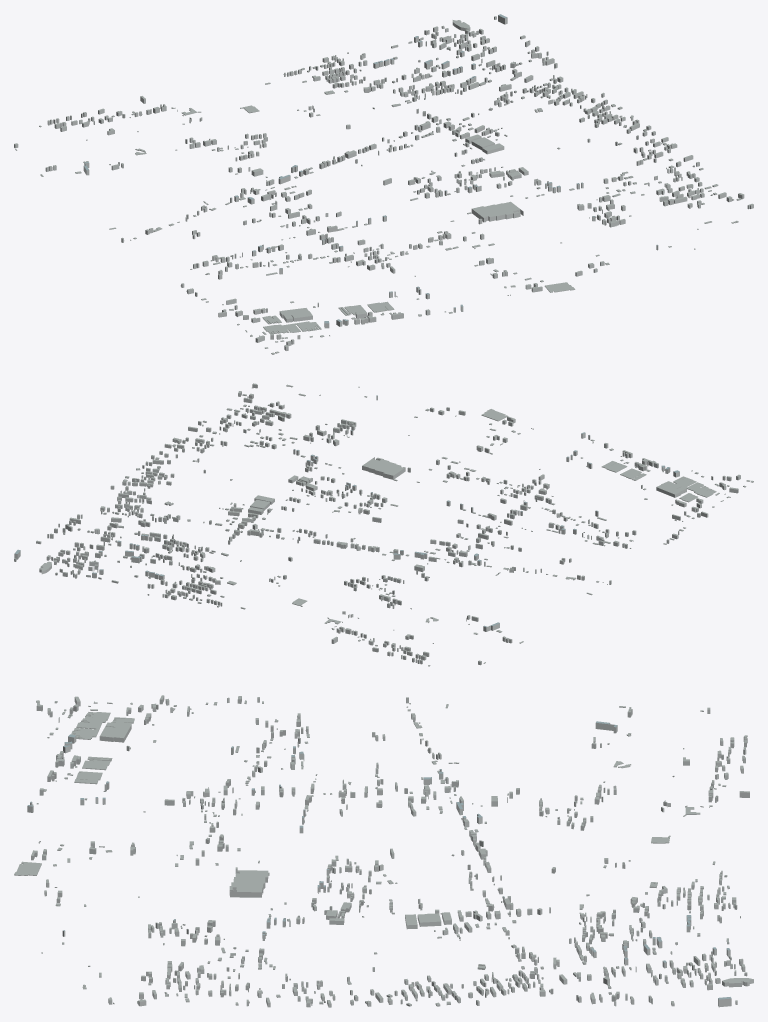
The model's file is far.glb.
The picture shows the model from 3 angles, top to bottom: view 1: azimuth 30°, elevation 25°; view 2: azimuth 150°, elevation 25°; view 3: azimuth 270°, elevation 25°; orthographic projection. The views are drawn at different scales.
Size of the model in its own units: 2116 by 24.2 by 2150.
